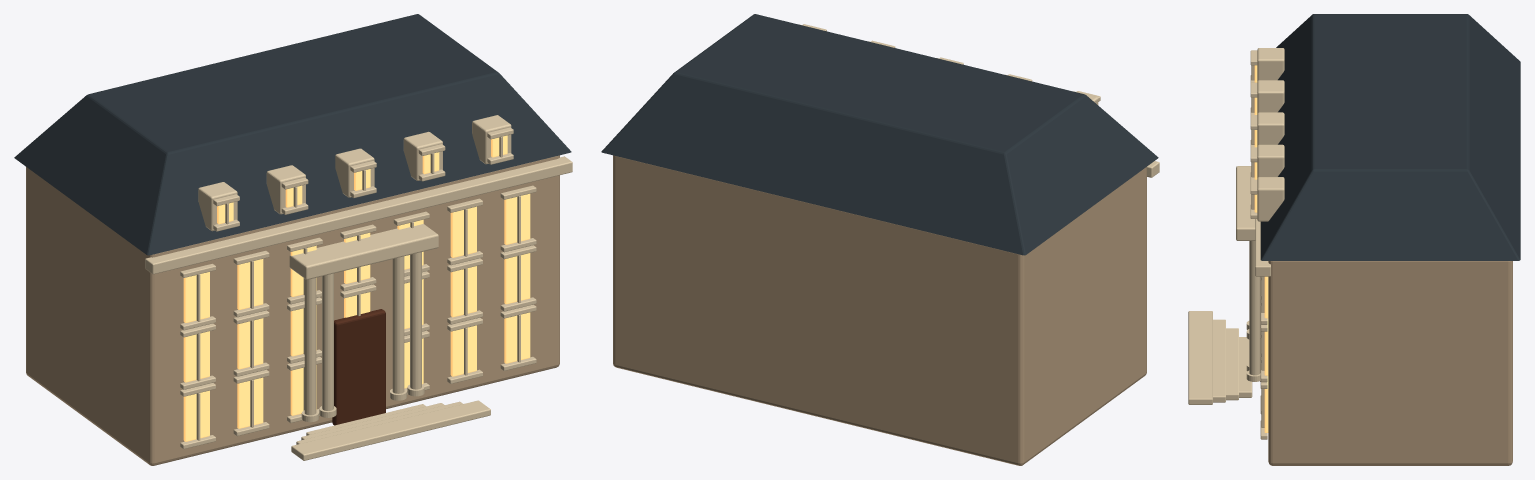
File: paris-university.glb
3 views of the same model, side by side, from view 1: azimuth 30°, elevation 25°; view 2: azimuth 150°, elevation 25°; view 3: azimuth 270°, elevation 25° (orthographic). The views are drawn at different scales.
Visible parts, largest first — view 1: Optimized Paris landmark; view 2: Optimized Paris landmark; view 3: Optimized Paris landmark.
Part boxes in pixels (x1,y1,x2,y2): Optimized Paris landmark: (14, 14, 572, 465); Optimized Paris landmark: (601, 14, 1159, 465); Optimized Paris landmark: (1188, 14, 1520, 465).
Bounding box in the file's own units: 10.85 × 7.05 × 7.61.
